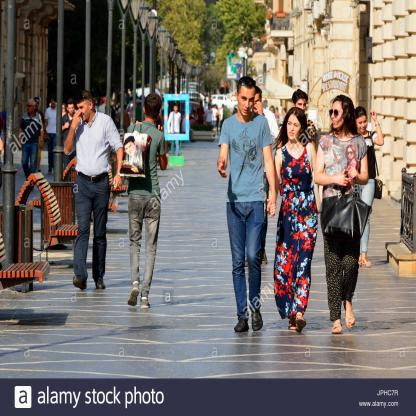person: (225, 77, 272, 335), (321, 95, 371, 337), (125, 94, 169, 314), (273, 106, 313, 332), (70, 90, 114, 294)
